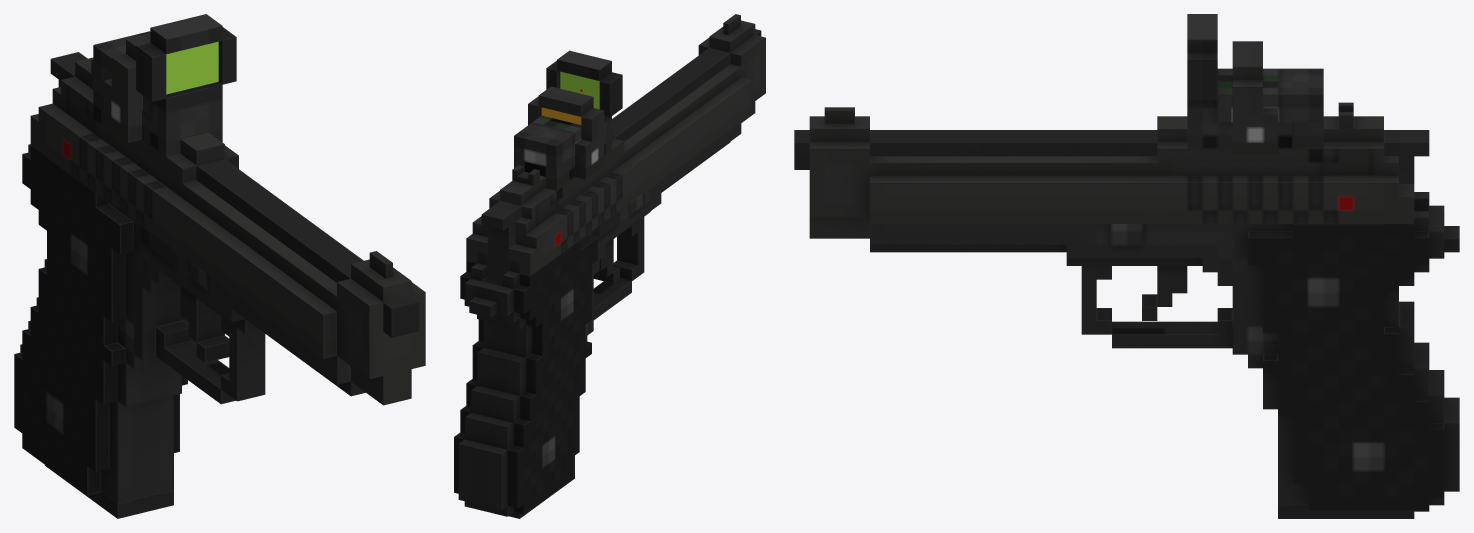
File: RD_BERETTA.glb
3 views of the same model, side by side, from view 1: azimuth 30°, elevation 25°; view 2: azimuth 150°, elevation 25°; view 3: azimuth 270°, elevation 25° (orthographic). The views are drawn at different scales.
Parts seen in each view (by area): view 1: BERETTA92, BERETTA92_FRAME, SCOPE_AIMPOINT, SCOPE_TRIJICON, BERETTA92_CLIP, BERETTA92_TRIGGER; view 2: BERETTA92, BERETTA92_FRAME, SCOPE_AIMPOINT, SCOPE_TRIJICON, BERETTA92_TRIGGER; view 3: BERETTA92, BERETTA92_FRAME, SCOPE_AIMPOINT, SCOPE_TRIJICON, BERETTA92_TRIGGER, BERETTA92_CLIP.
Part boxes in pixels (x1=…): BERETTA92: x1=14, y1=144, x2=419, y2=503; BERETTA92_FRAME: x1=30, y1=57, x2=425, y2=405; SCOPE_AIMPOINT: x1=93, y1=14, x2=236, y2=157; SCOPE_TRIJICON: x1=93, y1=33, x2=150, y2=142; BERETTA92_CLIP: x1=44, y1=465, x2=173, y2=518; BERETTA92_TRIGGER: x1=50, y1=52, x2=87, y2=87; BERETTA92: x1=454, y1=29, x2=761, y2=516; BERETTA92_FRAME: x1=466, y1=14, x2=765, y2=275; SCOPE_AIMPOINT: x1=514, y1=50, x2=622, y2=180; SCOPE_TRIJICON: x1=514, y1=86, x2=604, y2=190; BERETTA92_TRIGGER: x1=481, y1=201, x2=521, y2=280; BERETTA92: x1=794, y1=130, x2=1459, y2=511; BERETTA92_FRAME: x1=809, y1=102, x2=1414, y2=238; SCOPE_AIMPOINT: x1=1187, y1=14, x2=1323, y2=148; SCOPE_TRIJICON: x1=1232, y1=41, x2=1323, y2=155; BERETTA92_TRIGGER: x1=1384, y1=130, x2=1429, y2=183; BERETTA92_CLIP: x1=1278, y1=505, x2=1414, y2=518.
Size of the model in its own units: 0.0591 by 0.3445 by 0.4331.
Materials: 5 (5 with a texture image).
